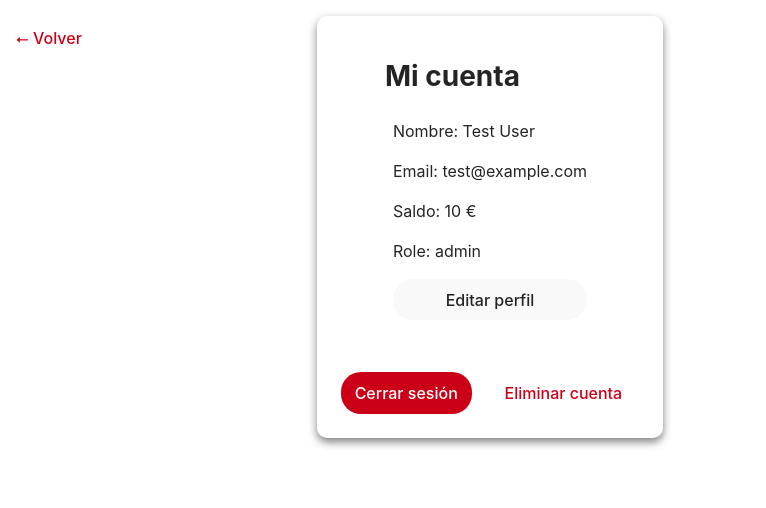
it: SeeProfile Component › shows delete confirmation popup when 'Eliminar cuenta' button is clicked
This screenshot has width=766, height=508.
Click the button "Eliminar cuenta" at (563, 393), box [488,372,639,414]
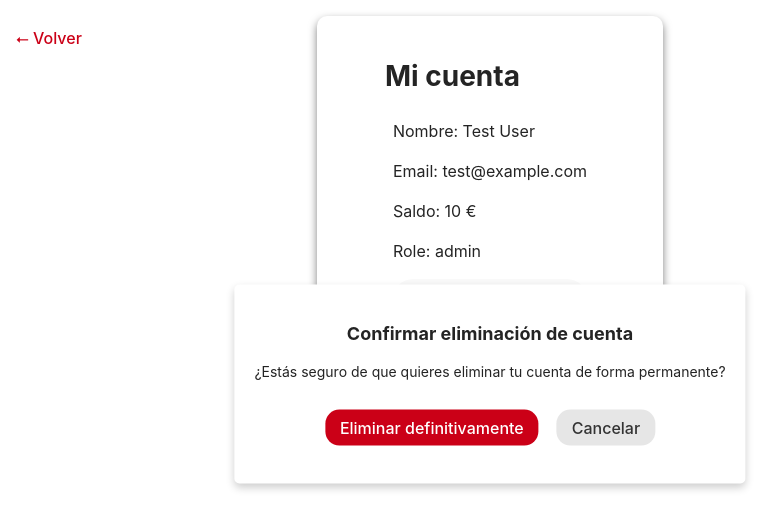
Now the heading "Confirmar eliminación de cuenta" is shown, box [347,322,633,344]
Now the text "¿Estás seguro de que quieres eliminar tu cuenta de forma permanente?" is shown, box [254,360,726,382]
Now the button "Eliminar definitivamente" is shown, box [325,410,539,446]
